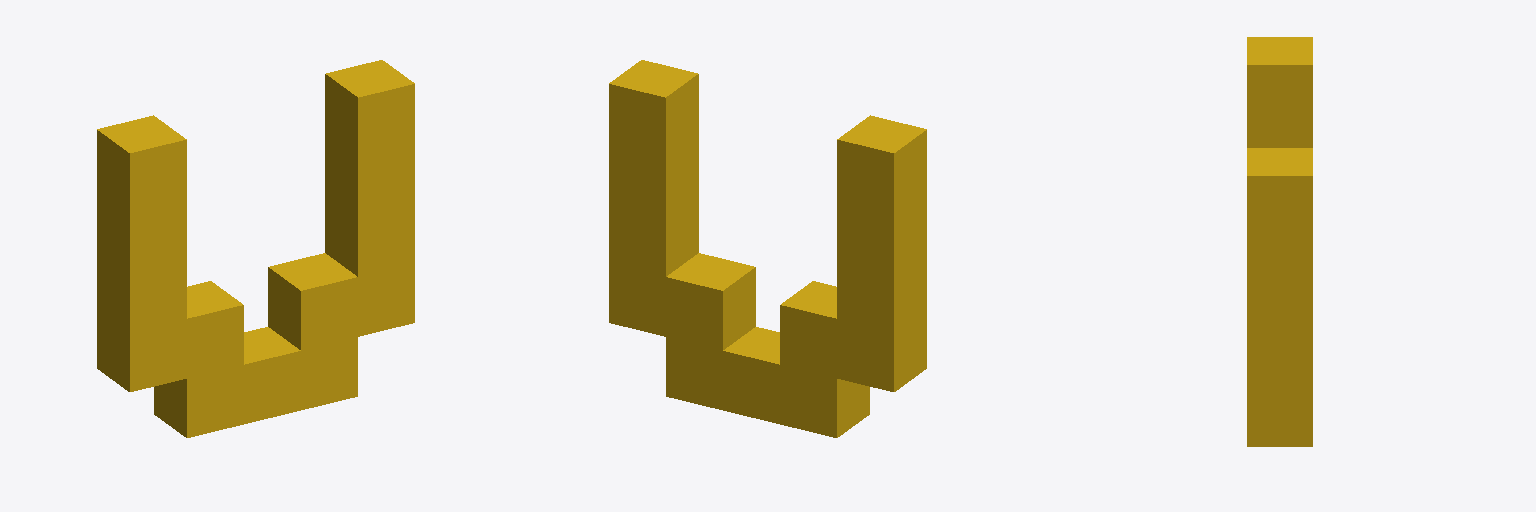
3 renders of one model, left to right at view 1: azimuth 30°, elevation 25°; view 2: azimuth 150°, elevation 25°; view 3: azimuth 270°, elevation 25°, orthographic.
Size of the model in its own units: 5 by 5 by 1.
1 materials, 1 textured.